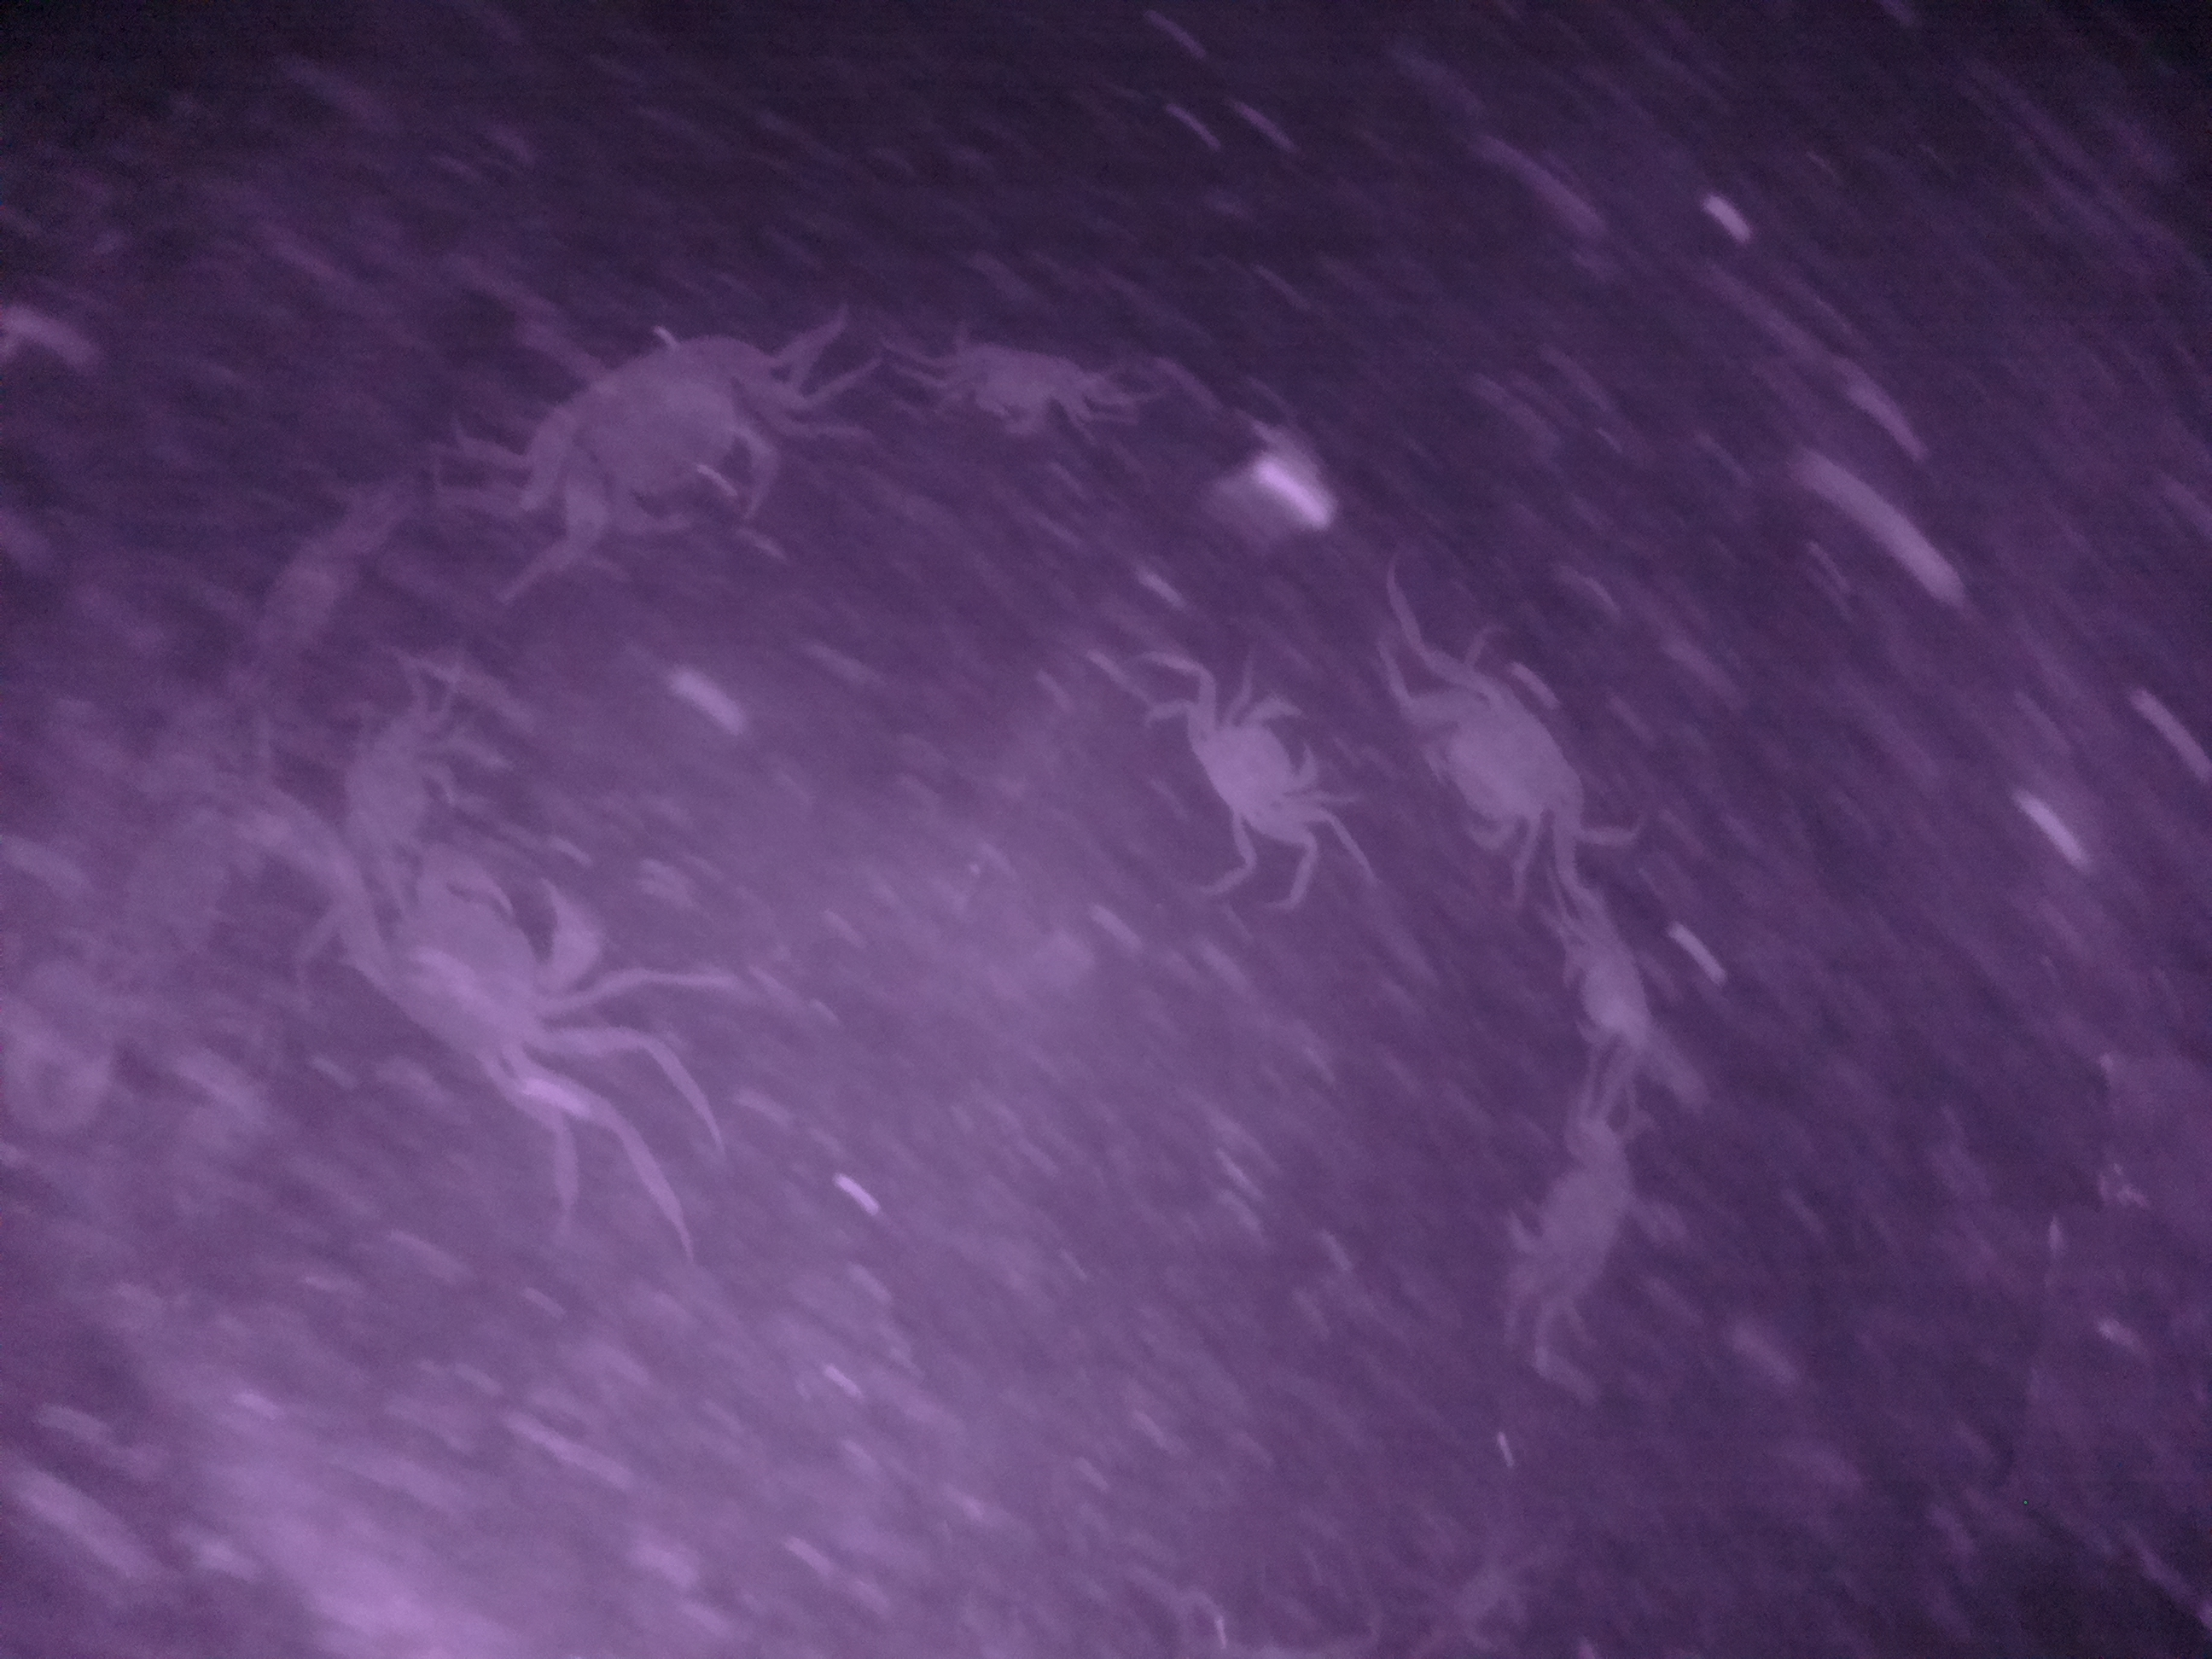Crab: (535, 317, 792, 589), (1390, 664, 1590, 861), (1179, 685, 1334, 840), (920, 331, 1120, 443), (1552, 897, 1674, 1070)
